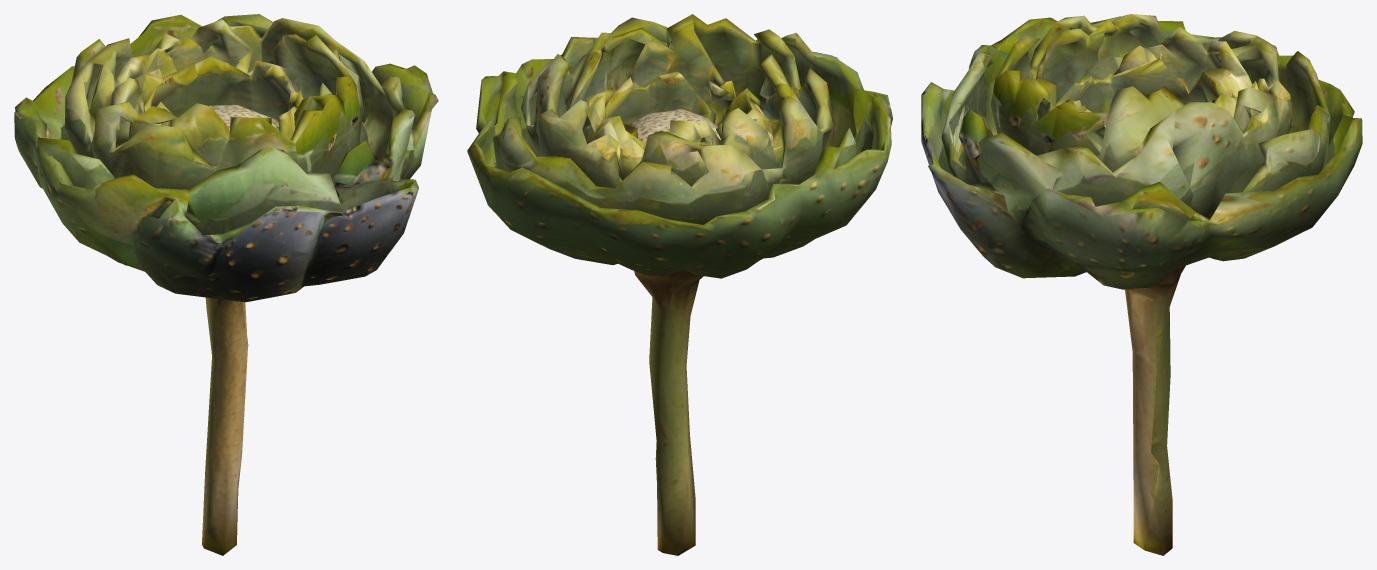
Rendered from Lotus_Grown.glb.
3 views of the same model, side by side, from view 1: azimuth 30°, elevation 25°; view 2: azimuth 150°, elevation 25°; view 3: azimuth 270°, elevation 25° (orthographic). The views are drawn at different scales.
Visible parts, largest first — view 1: Mesh1; view 2: Mesh1; view 3: Mesh1.
Part boxes in pixels (x1=…): Mesh1: x1=14, y1=14, x2=438, y2=555; Mesh1: x1=467, y1=14, x2=892, y2=555; Mesh1: x1=921, y1=14, x2=1362, y2=555.
Bounding box in the file's own units: 1.62 × 1.99 × 1.58.
Materials: 1 (1 with a texture image).
